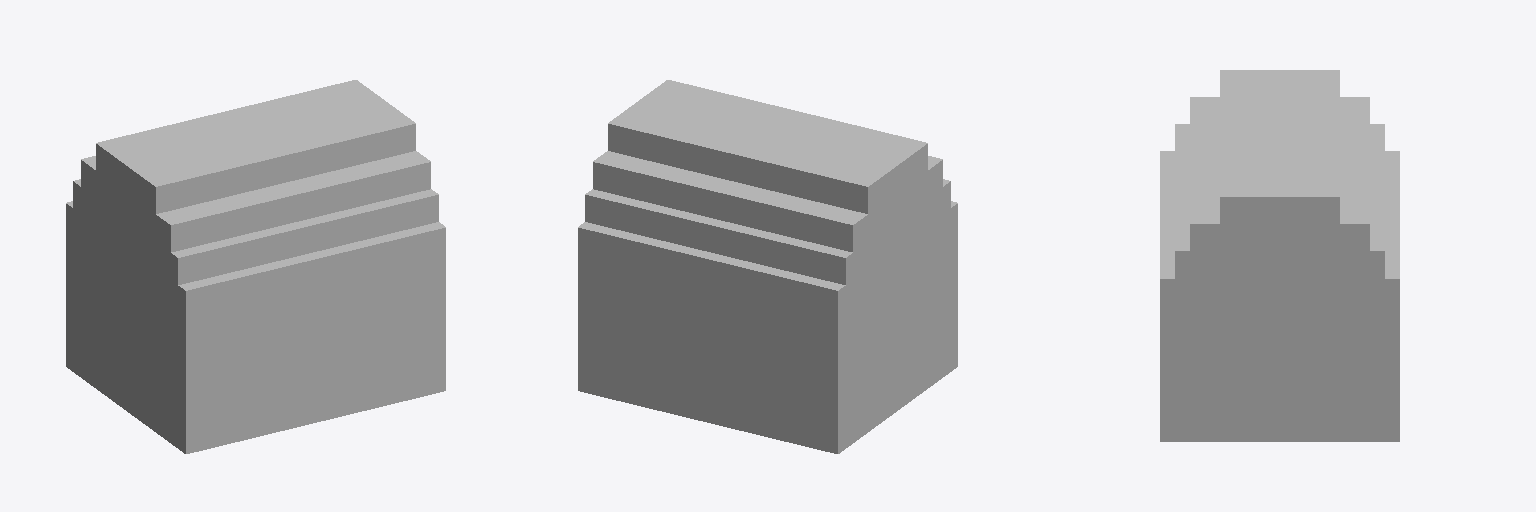
Rendered from chest-retro.obj.
The picture shows the model from 3 angles: view 1: azimuth 30°, elevation 25°; view 2: azimuth 150°, elevation 25°; view 3: azimuth 270°, elevation 25°; orthographic projection.
Size of the model in its own units: 10 by 9 by 8.